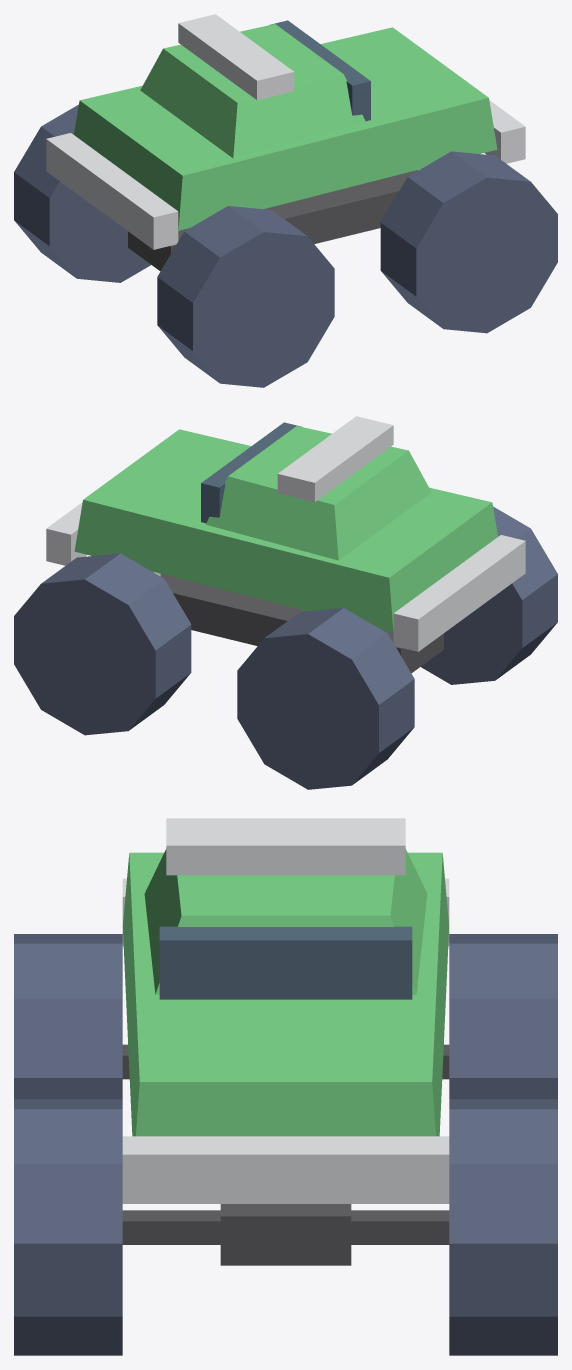
Rendered from car_monster.glb.
3 renders of one model, top to bottom at view 1: azimuth 30°, elevation 25°; view 2: azimuth 150°, elevation 25°; view 3: azimuth 270°, elevation 25°, orthographic. The views are drawn at different scales.
Size of the model in its own units: 0.3 by 0.2 by 0.25.
